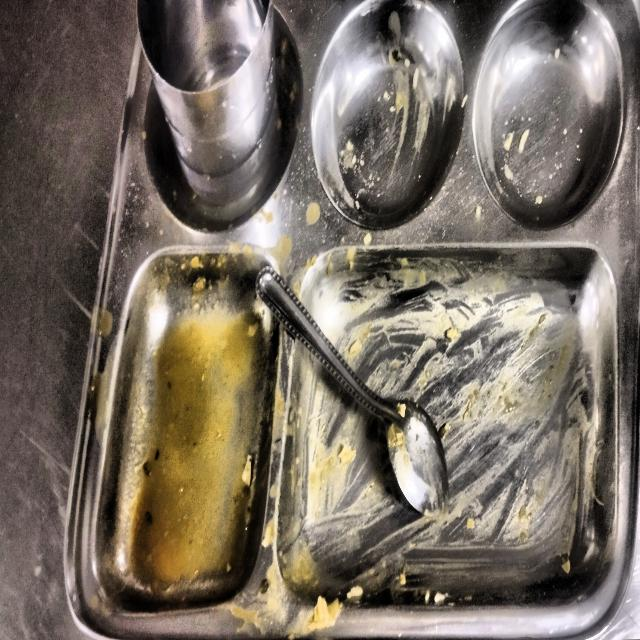Gulab-jamun: (255, 233, 618, 604), (281, 0, 637, 240)
